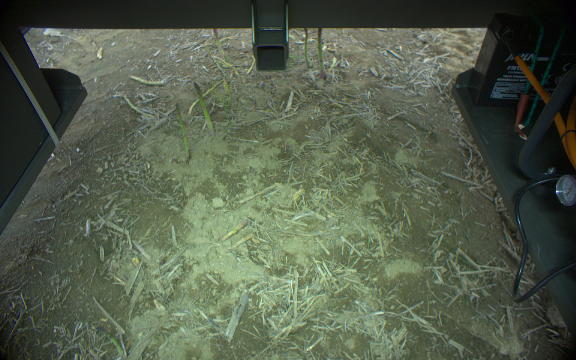aspa: (192, 79, 214, 135), (173, 101, 192, 164), (314, 26, 326, 82), (220, 217, 249, 240), (211, 29, 226, 64), (301, 25, 312, 68)
